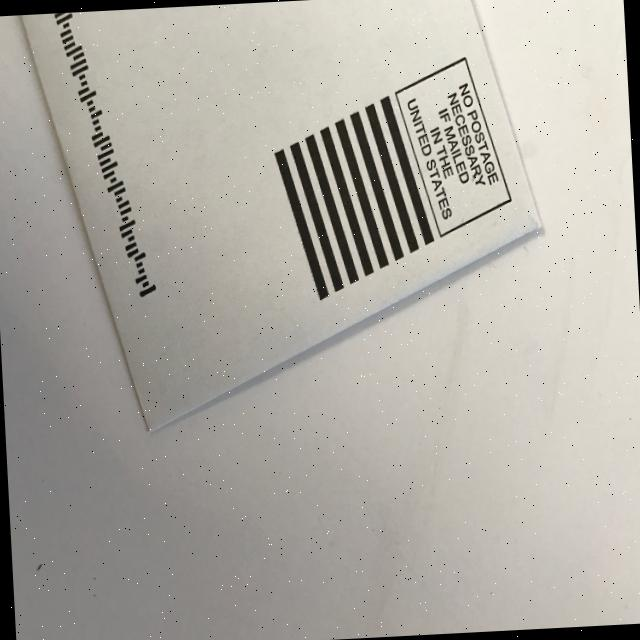paper: (19, 0, 553, 439)
